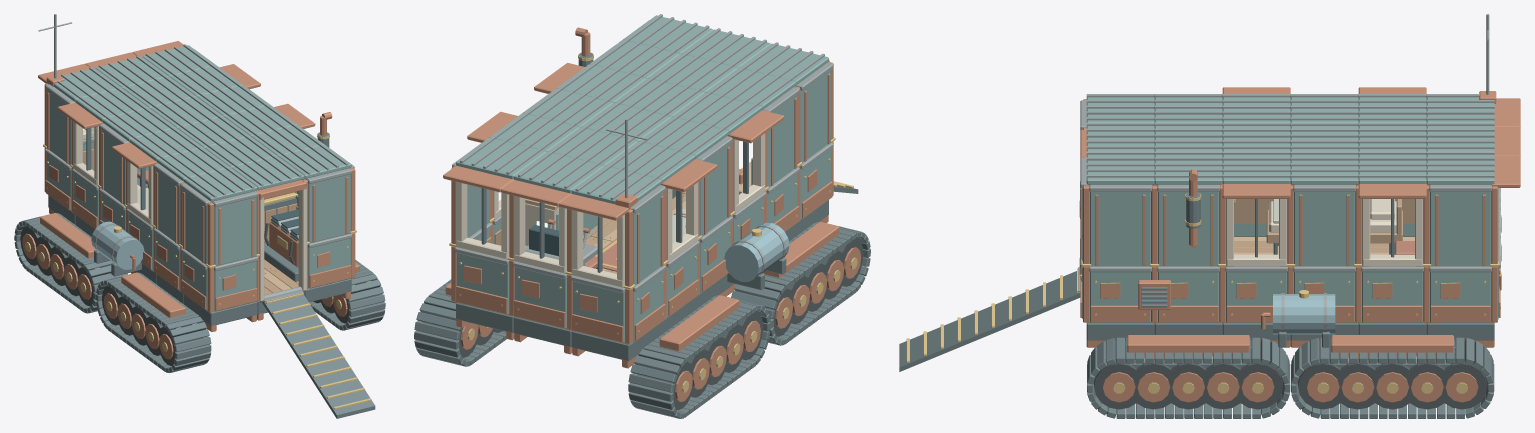
File: starter_crawler_full.glb
The picture shows the model from 3 angles, left to right: view 1: azimuth 30°, elevation 25°; view 2: azimuth 150°, elevation 25°; view 3: azimuth 270°, elevation 25°; orthographic projection. The views are drawn at different scales.
Visible parts, largest first — view 1: track_bogie_3m__018, track_bogie_3m__019, ramp__122, wall_upper_1m__030, wall_upper_1m__023, track_bogie_3m__020, doorway_1m__026, tank__124, engine__116, wall_low_1m__022, wall_low_1m__029, window_upper_1m__038 (+40 smaller); view 2: track_bogie_3m__019, track_bogie_3m__018, track_bogie_3m__021, window_upper_1m__032, window_upper_1m__025, tank__124, window_upper_1m__028, wall_low_1m__031, wall_low_1m__024, wall_low_1m__027, window_upper_1m__042, window_upper_1m__038 (+43 smaller); view 3: track_bogie_3m__020, track_bogie_3m__021, ramp__122, wall_upper_1m__052, wall_upper_1m__056, wall_upper_1m__046, wall_upper_1m__048, wall_low_1m__055, wall_low_1m__053, wall_low_1m__047, wall_low_1m__045, window_upper_1m__054 (+36 smaller).
Part boxes in pixels (x1,y1,x2,y2): track_bogie_3m__018: (96,272,211,372); track_bogie_3m__019: (14,213,127,313); ramp__122: (259,286,375,418); wall_upper_1m__030: (305,168,352,243); wall_upper_1m__023: (212,191,257,266); track_bogie_3m__020: (310,260,385,330); doorway_1m__026: (256,179,306,302); tank__124: (91,221,144,276); engine__116: (264,178,304,281); wall_low_1m__022: (214,256,258,311); wall_low_1m__029: (308,233,352,288); window_upper_1m__038: (112,142,157,225); track_bogie_3m__019: (628,295,770,418); track_bogie_3m__018: (731,221,870,345); track_bogie_3m__021: (414,279,506,366); window_upper_1m__032: (443,165,513,259); window_upper_1m__025: (559,194,630,287); tank__124: (724,222,789,289); window_upper_1m__028: (501,180,571,273); wall_low_1m__031: (455,247,509,314); wall_low_1m__024: (570,275,625,343); wall_low_1m__027: (513,261,567,329); window_upper_1m__042: (661,159,717,261); window_upper_1m__038: (727,110,784,212); track_bogie_3m__020: (1087,335,1290,418); track_bogie_3m__021: (1291,335,1494,418); ramp__122: (899,268,1080,371); wall_upper_1m__052: (1293,184,1355,266); wall_upper_1m__056: (1429,184,1491,266); wall_upper_1m__046: (1089,184,1151,266); wall_upper_1m__048: (1157,184,1219,266); wall_low_1m__055: (1429,266,1491,322); wall_low_1m__053: (1361,266,1423,322); wall_low_1m__047: (1157,266,1219,322); wall_low_1m__045: (1089,266,1151,322); window_upper_1m__054: (1358,184,1426,266).
Size of the model in its own units: 4.44 by 4.96 by 9.13.
